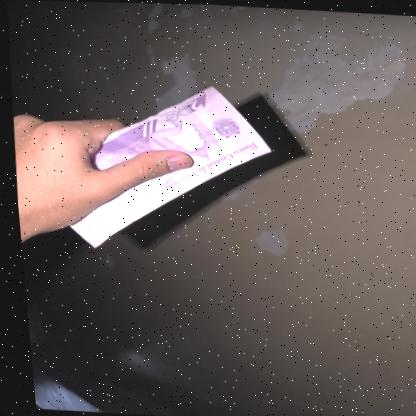one_hundred-back-vef: (52, 76, 280, 258)
